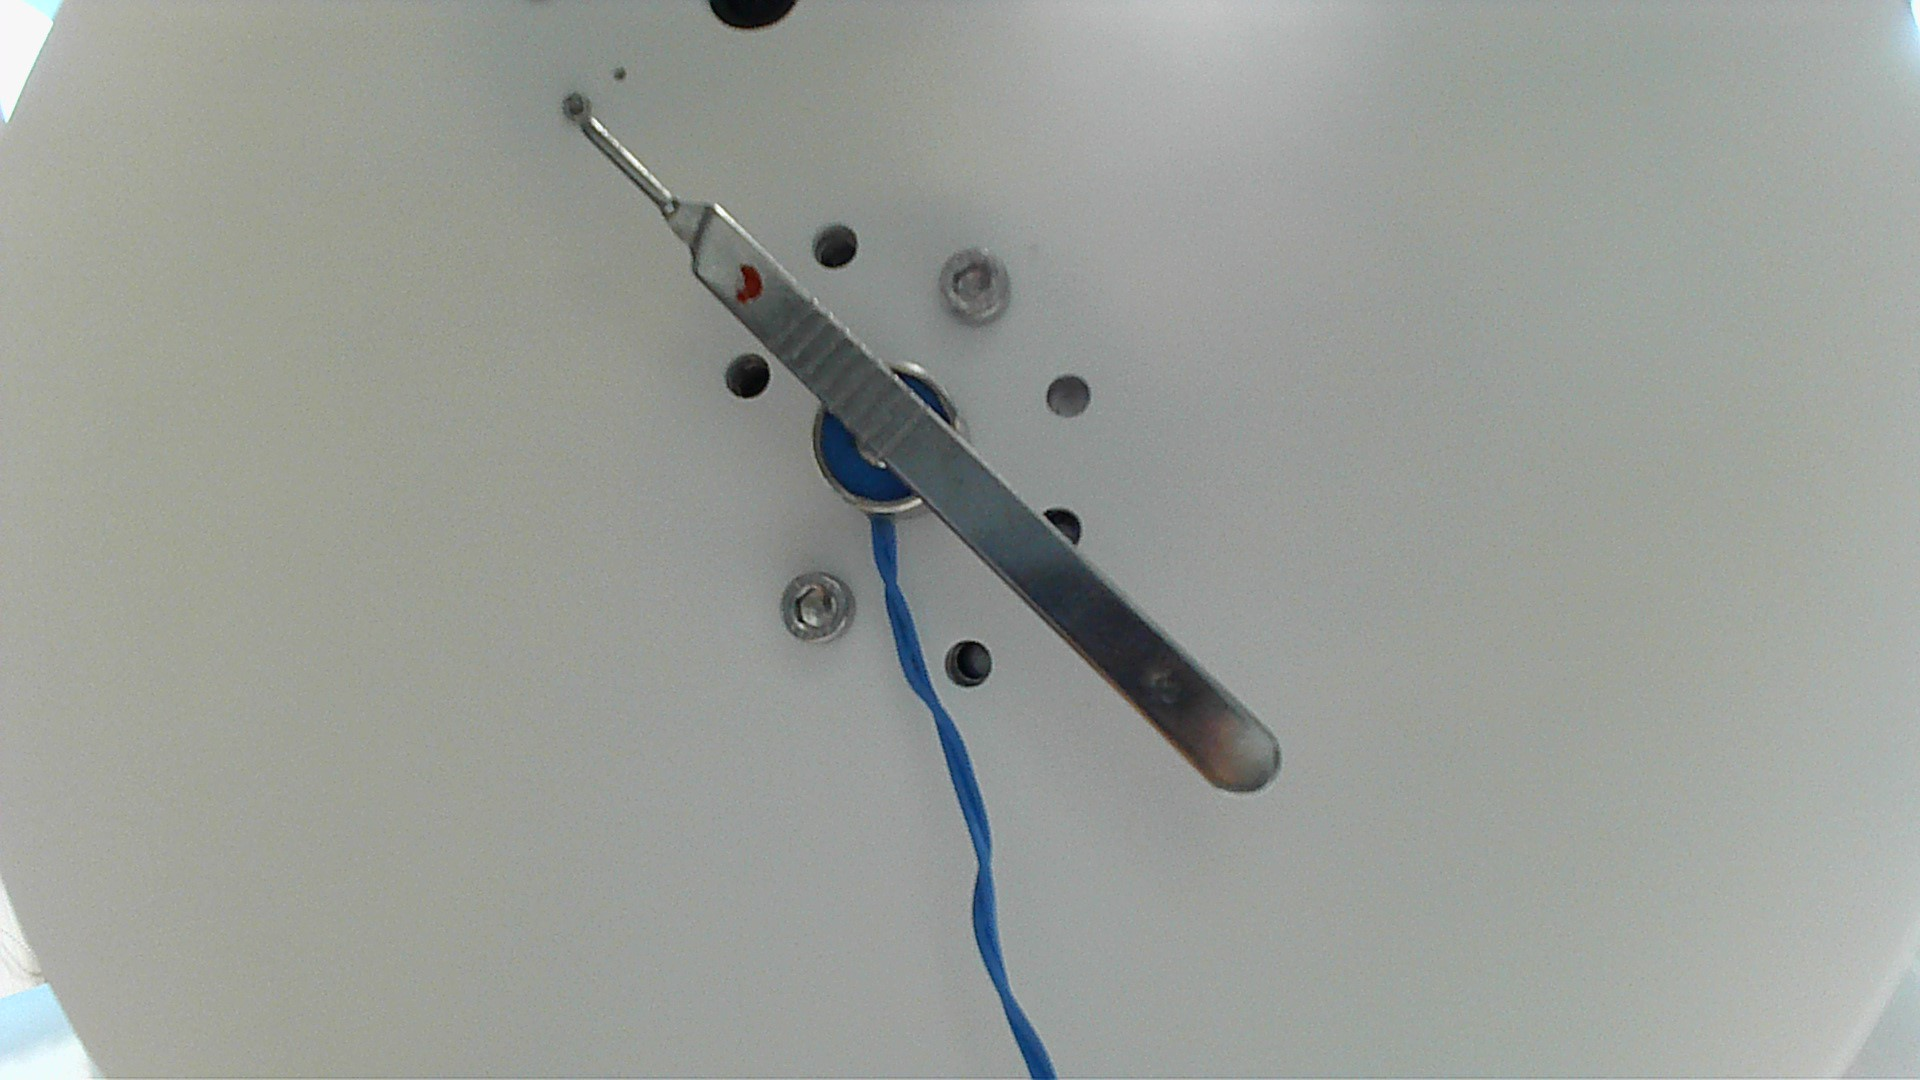Stain: (728, 256, 758, 314)
